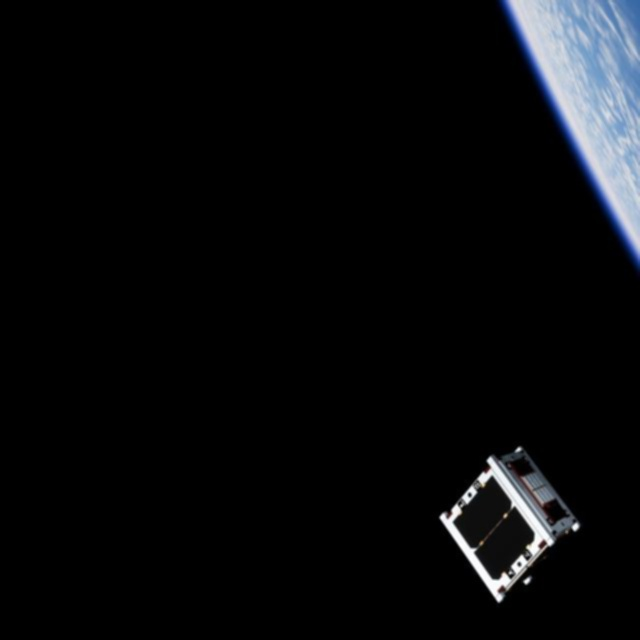satellite: (433, 438, 587, 604)
